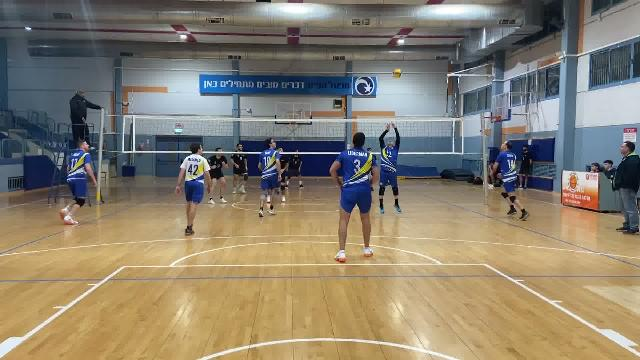ball: (392, 68, 403, 78)
